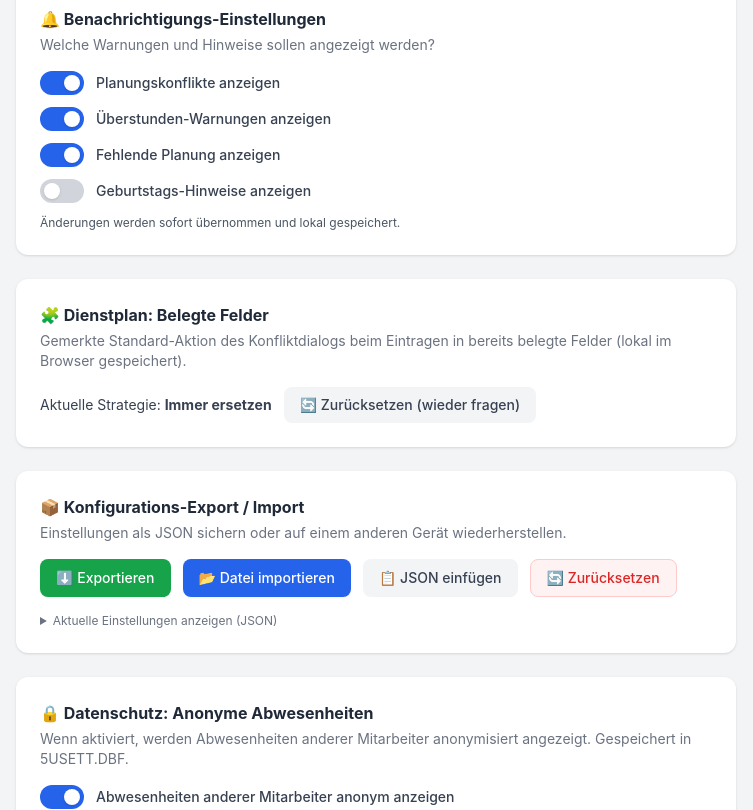
Scenario: Einstellungen — Konflikt-Strategie zurücksetzen › zeigt eine gemerkte Strategie an und setzt sie per Klick zurück
(page scrolled)
Expected: the text "Immer ersetzen" is shown, left=165, top=396, right=272, bottom=413
Click the button "🔄 Zurücksetzen (wieder fragen)" at (410, 405), box left=284, top=387, right=536, bottom=423
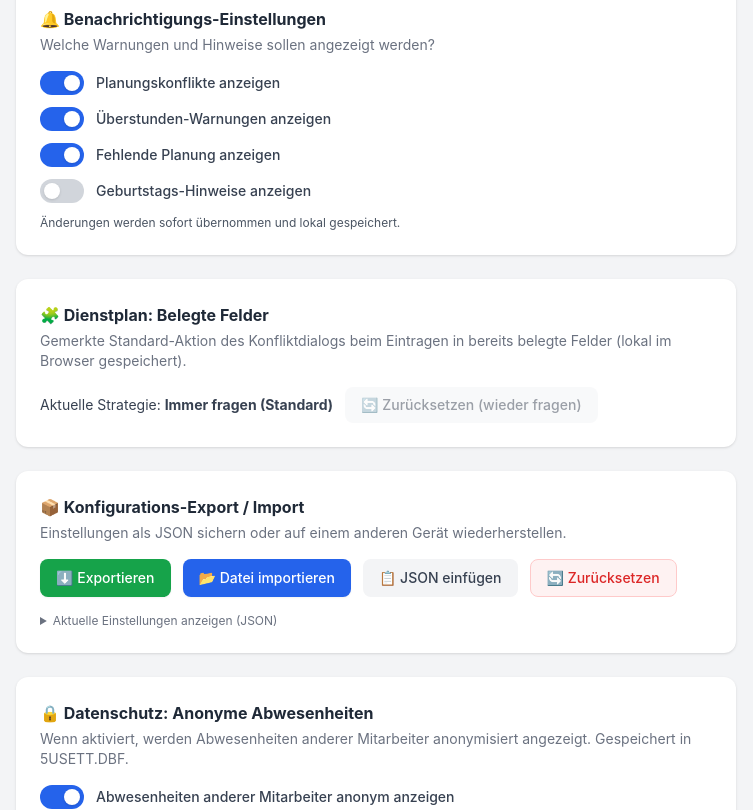
Expected: the text "Immer fragen (Standard)" is shown, left=165, top=396, right=333, bottom=413
